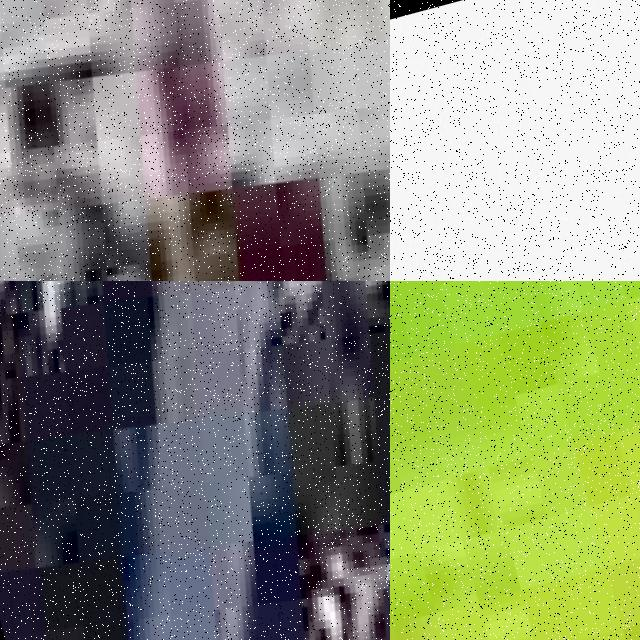0: (0, 281, 390, 640), (0, 0, 390, 281)
drone: (390, 0, 640, 281)
